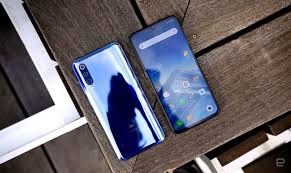mi: (67, 41, 164, 161)
